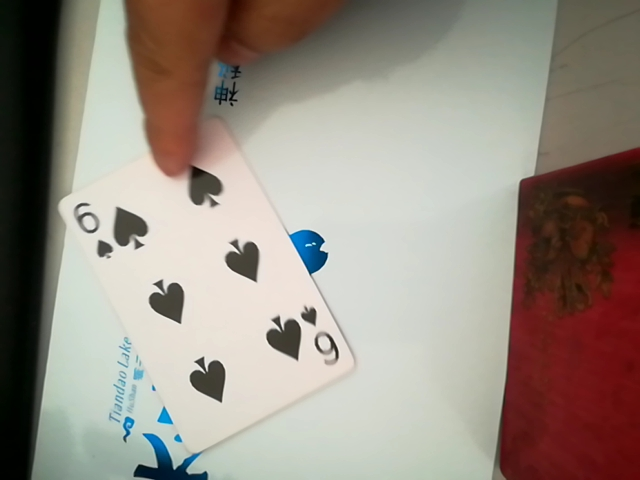ht 6: (65, 141, 350, 459)
